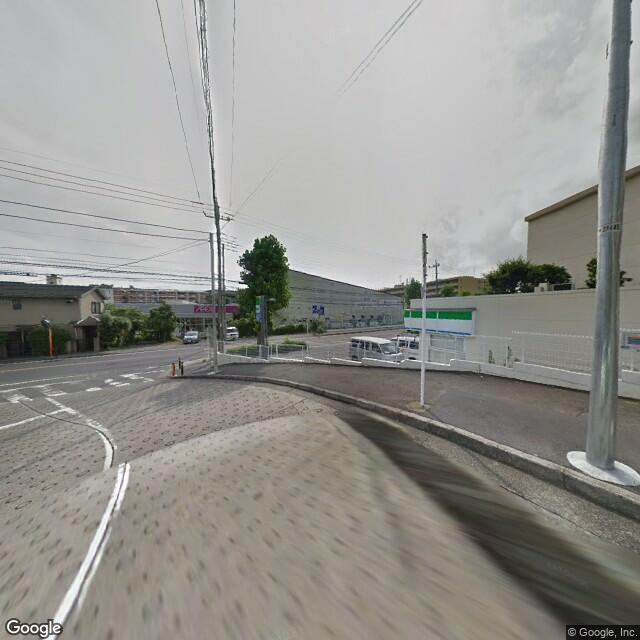family_mart: (401, 307, 478, 338)
